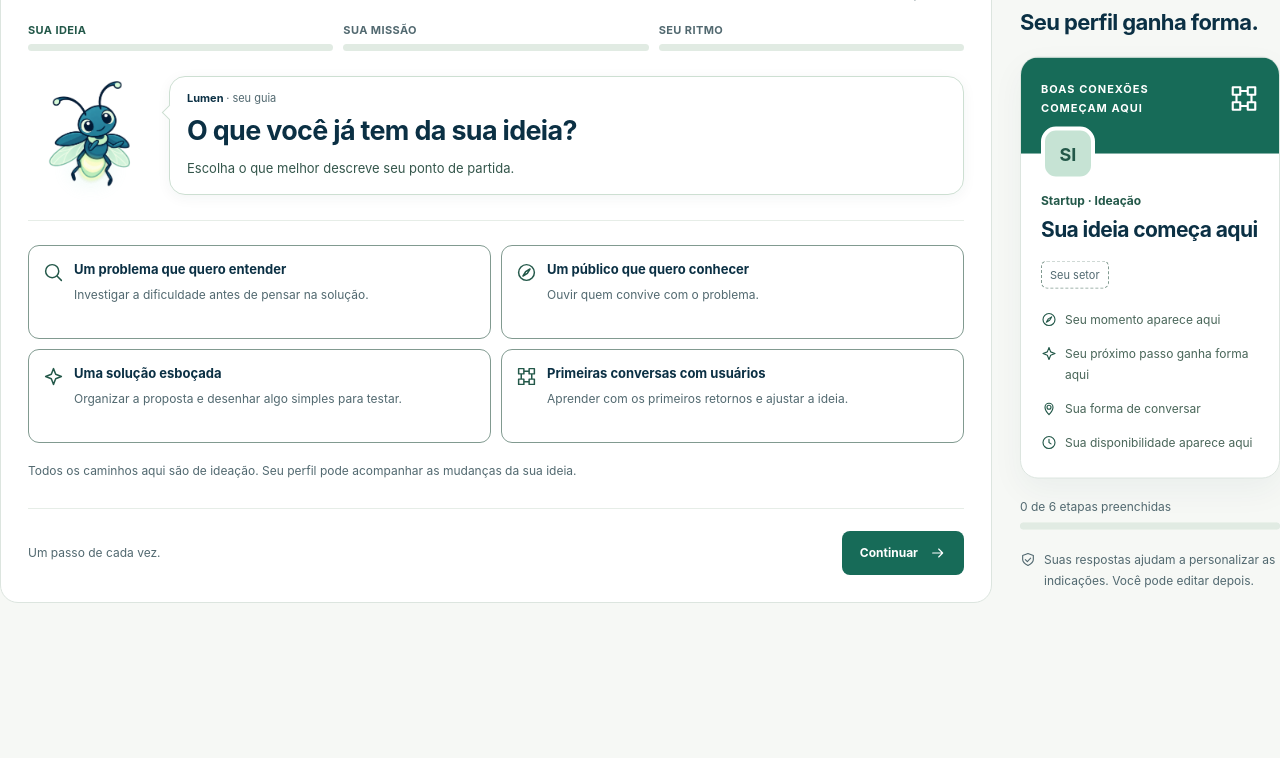
Test: Perfil em seis etapas e três fases com o Lumen › mostra a reação do Lumen depois de cada resposta, mas não durante a edição
Click the button that starts with "Um problema que quero entender": [260, 292] box [28,245,491,339]
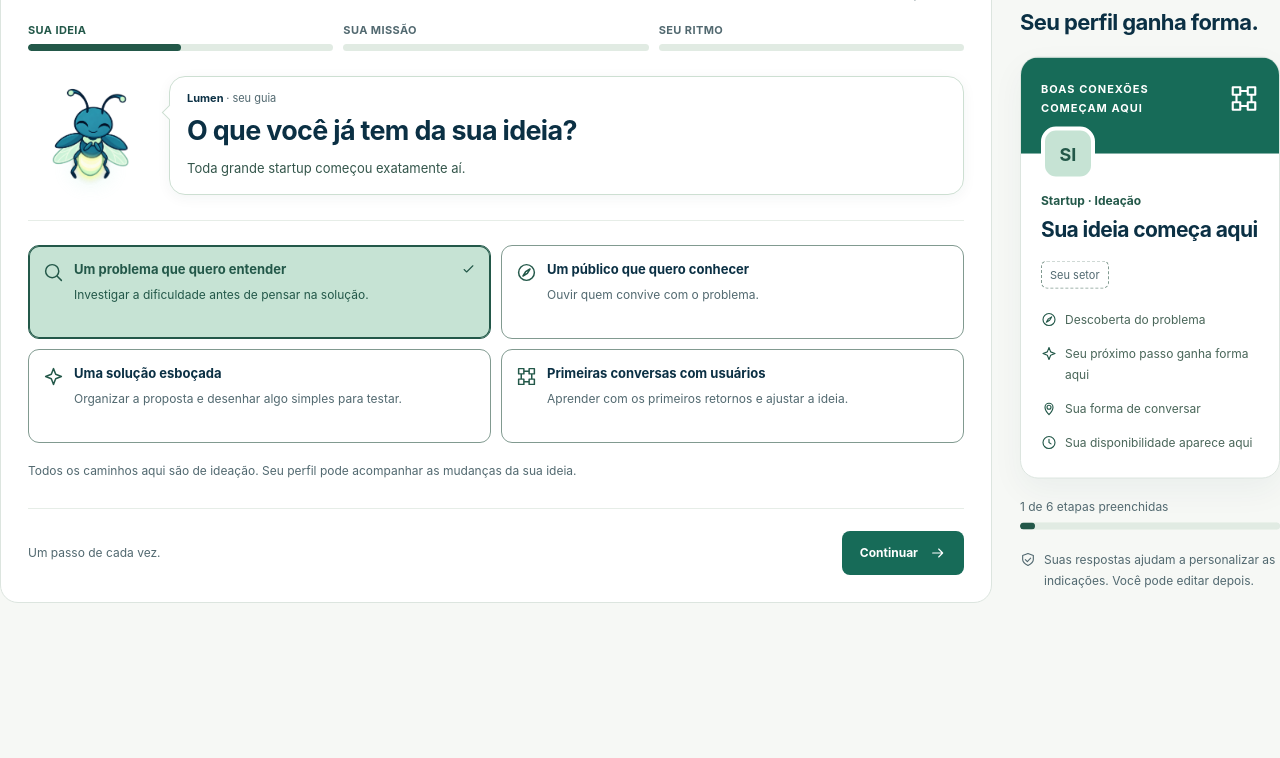
Expected: the text with class "speech-text" reads "Toda grande startup começou exatamente aí.", [187,160,466,176]
Click the button "Continuar": [903, 553] box [842,531,964,575]
(page scrolled)
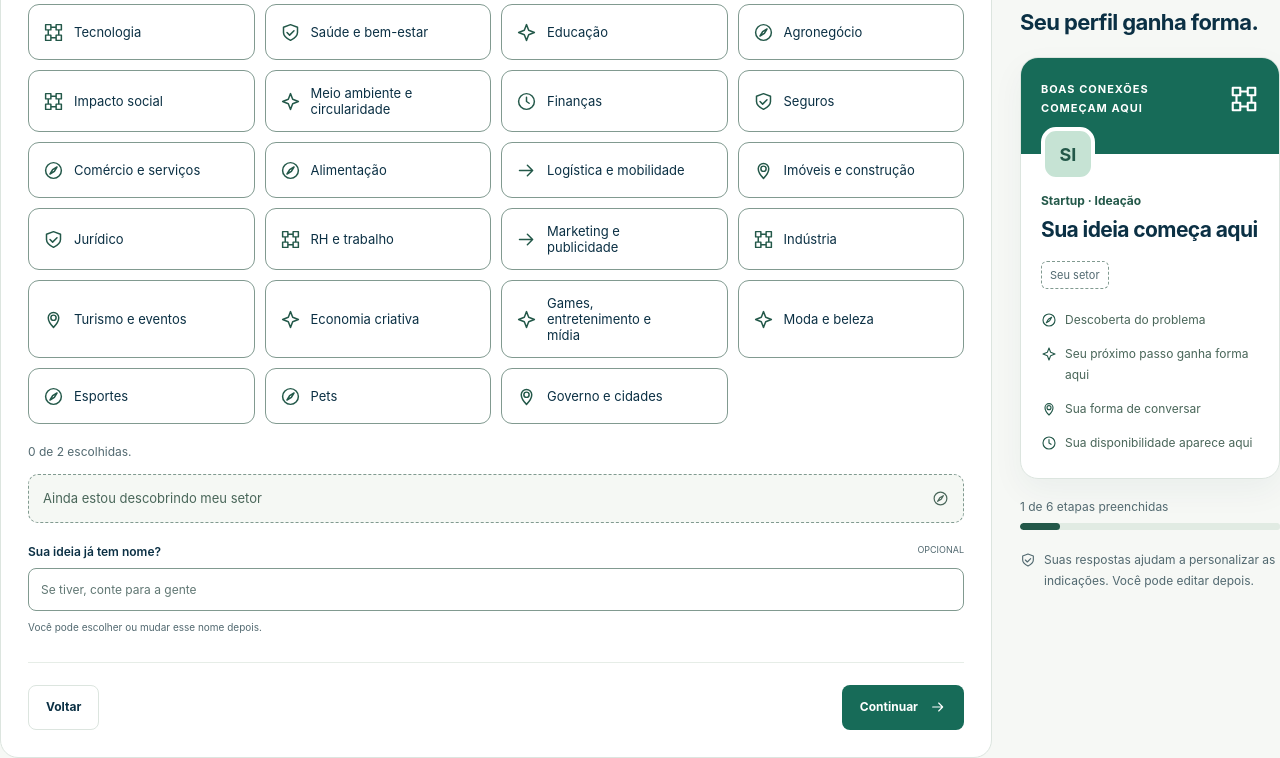
Expected: the button "Ainda estou descobrindo meu setor" is shown
Click the button "Ainda estou descobrindo meu setor": [152, 498] box [28,474,964,523]
(page scrolled)
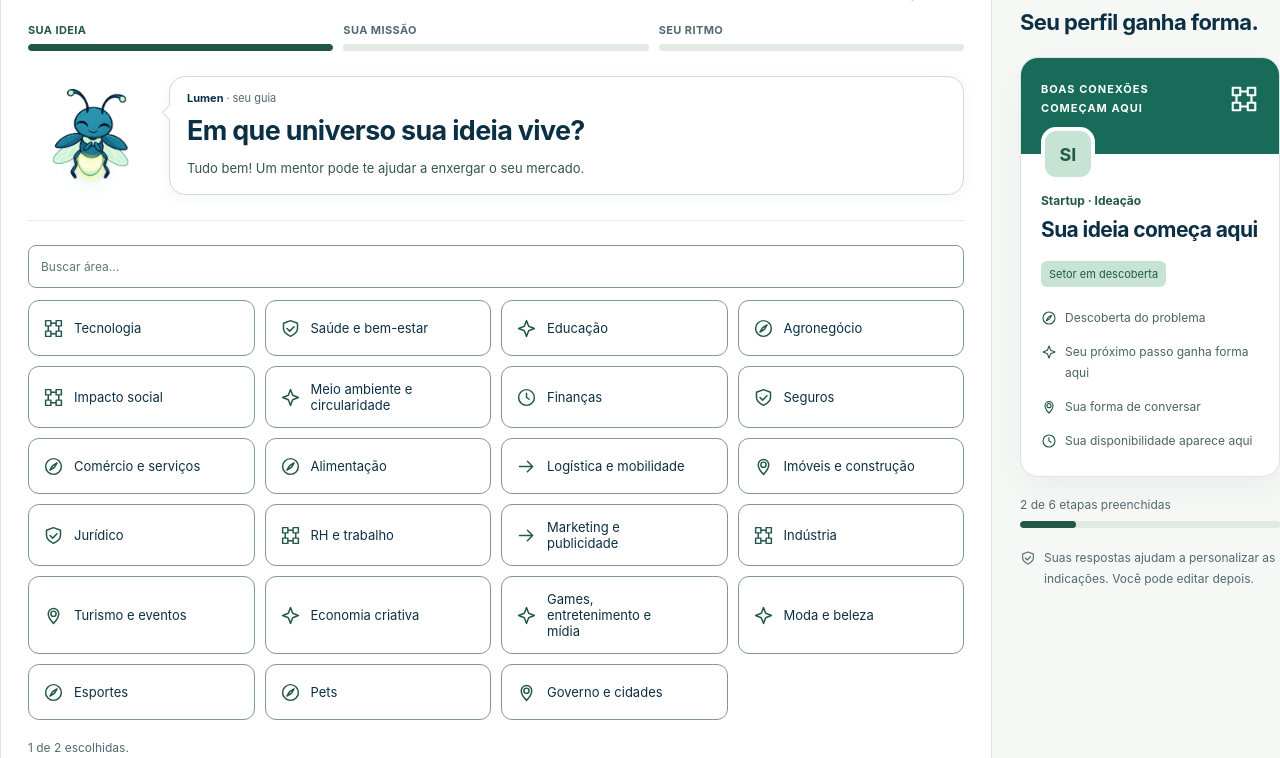
Expected: the text with class "speech-text" shows "Um mentor pode te ajudar", [187,160,584,176]
